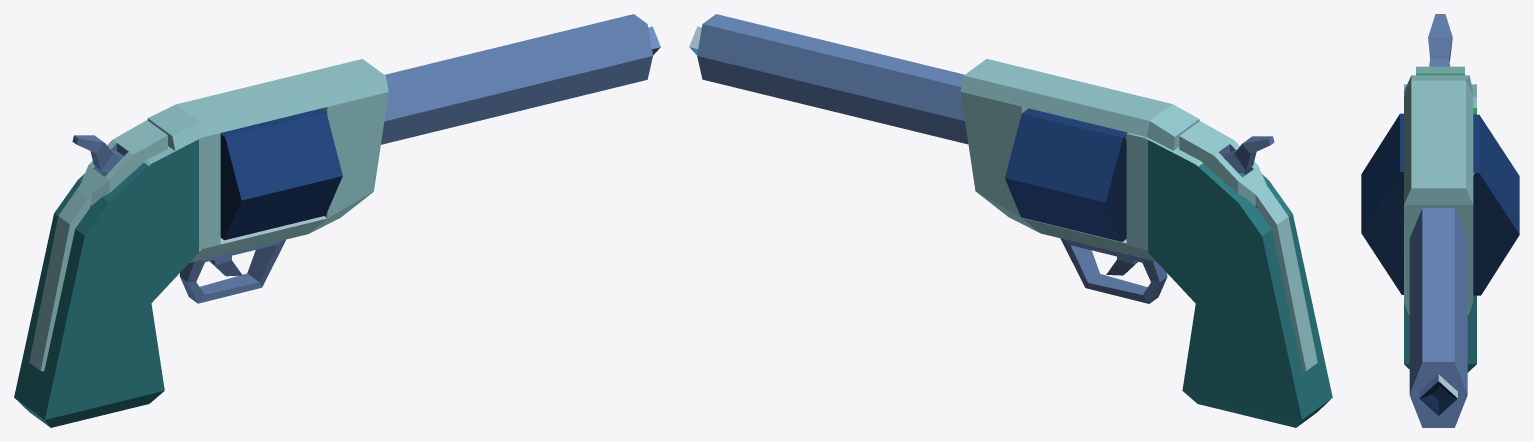
File: revolver_1.obj
3 renders of one model, left to right at view 1: azimuth 30°, elevation 25°; view 2: azimuth 150°, elevation 25°; view 3: azimuth 270°, elevation 25°, orthographic. The views are drawn at different scales.
Parts seen in each view (by area): view 1: handle, barrel, body, cylinder_selection, cuboid, guard, hammer_move; view 2: handle, barrel, body, cylinder_selection, cuboid, guard, hammer_move; view 3: cylinder_selection, barrel, body, handle, hammer_move, muzzle, cuboid.
Part boxes in pixels (box(x1,y1,x2,y2)): handle: box(14, 133, 220, 427); barrel: box(381, 14, 652, 144); body: box(147, 59, 388, 262); cylinder_selection: box(220, 108, 342, 240); cuboid: box(29, 120, 242, 371); guard: box(179, 239, 285, 303); hammer_move: box(72, 135, 123, 172); handle: box(1126, 132, 1332, 427); barrel: box(697, 14, 968, 144); body: box(960, 59, 1199, 261); cylinder_selection: box(1005, 108, 1127, 241); cuboid: box(1106, 121, 1317, 371); guard: box(1060, 238, 1167, 303); hammer_move: box(1223, 136, 1274, 173); cylinder_selection: box(1361, 113, 1519, 295); barrel: box(1409, 208, 1467, 427); body: box(1404, 75, 1473, 314); handle: box(1404, 84, 1476, 372); hammer_move: box(1428, 14, 1452, 66); muzzle: box(1419, 374, 1457, 415); cuboid: box(1416, 66, 1464, 75).
Bounding box in the file's own units: 1.46 × 0.6147 × 0.2723.
1 material, 1 textured.
